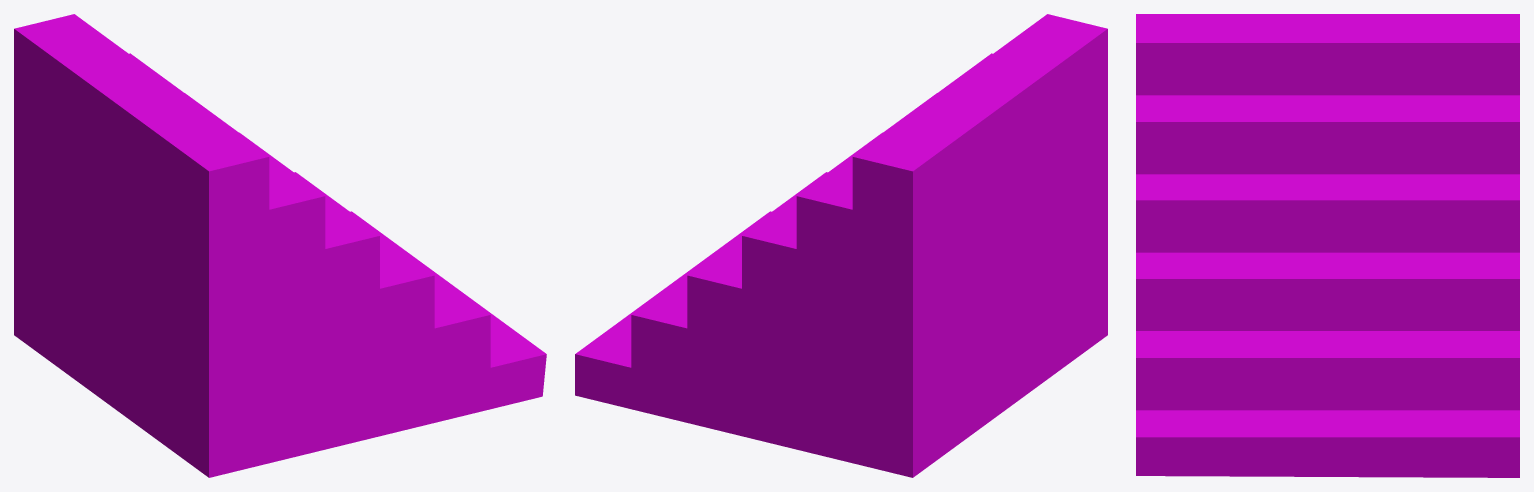
File: SM_Stairs_100_100.fbx
3 views of the same model, side by side, from view 1: azimuth 30°, elevation 25°; view 2: azimuth 150°, elevation 25°; view 3: azimuth 270°, elevation 25° (orthographic).
Visible parts, largest first — view 1: pasted__pCube52; view 2: pasted__pCube52; view 3: pasted__pCube52.
Boxes of the visible parts, x1,y1,x2,y2 form: pasted__pCube52: [14, 14, 546, 477]; pasted__pCube52: [575, 14, 1107, 477]; pasted__pCube52: [1136, 14, 1519, 477].
Bounding box in the file's own units: 1 × 0.8673 × 1.
